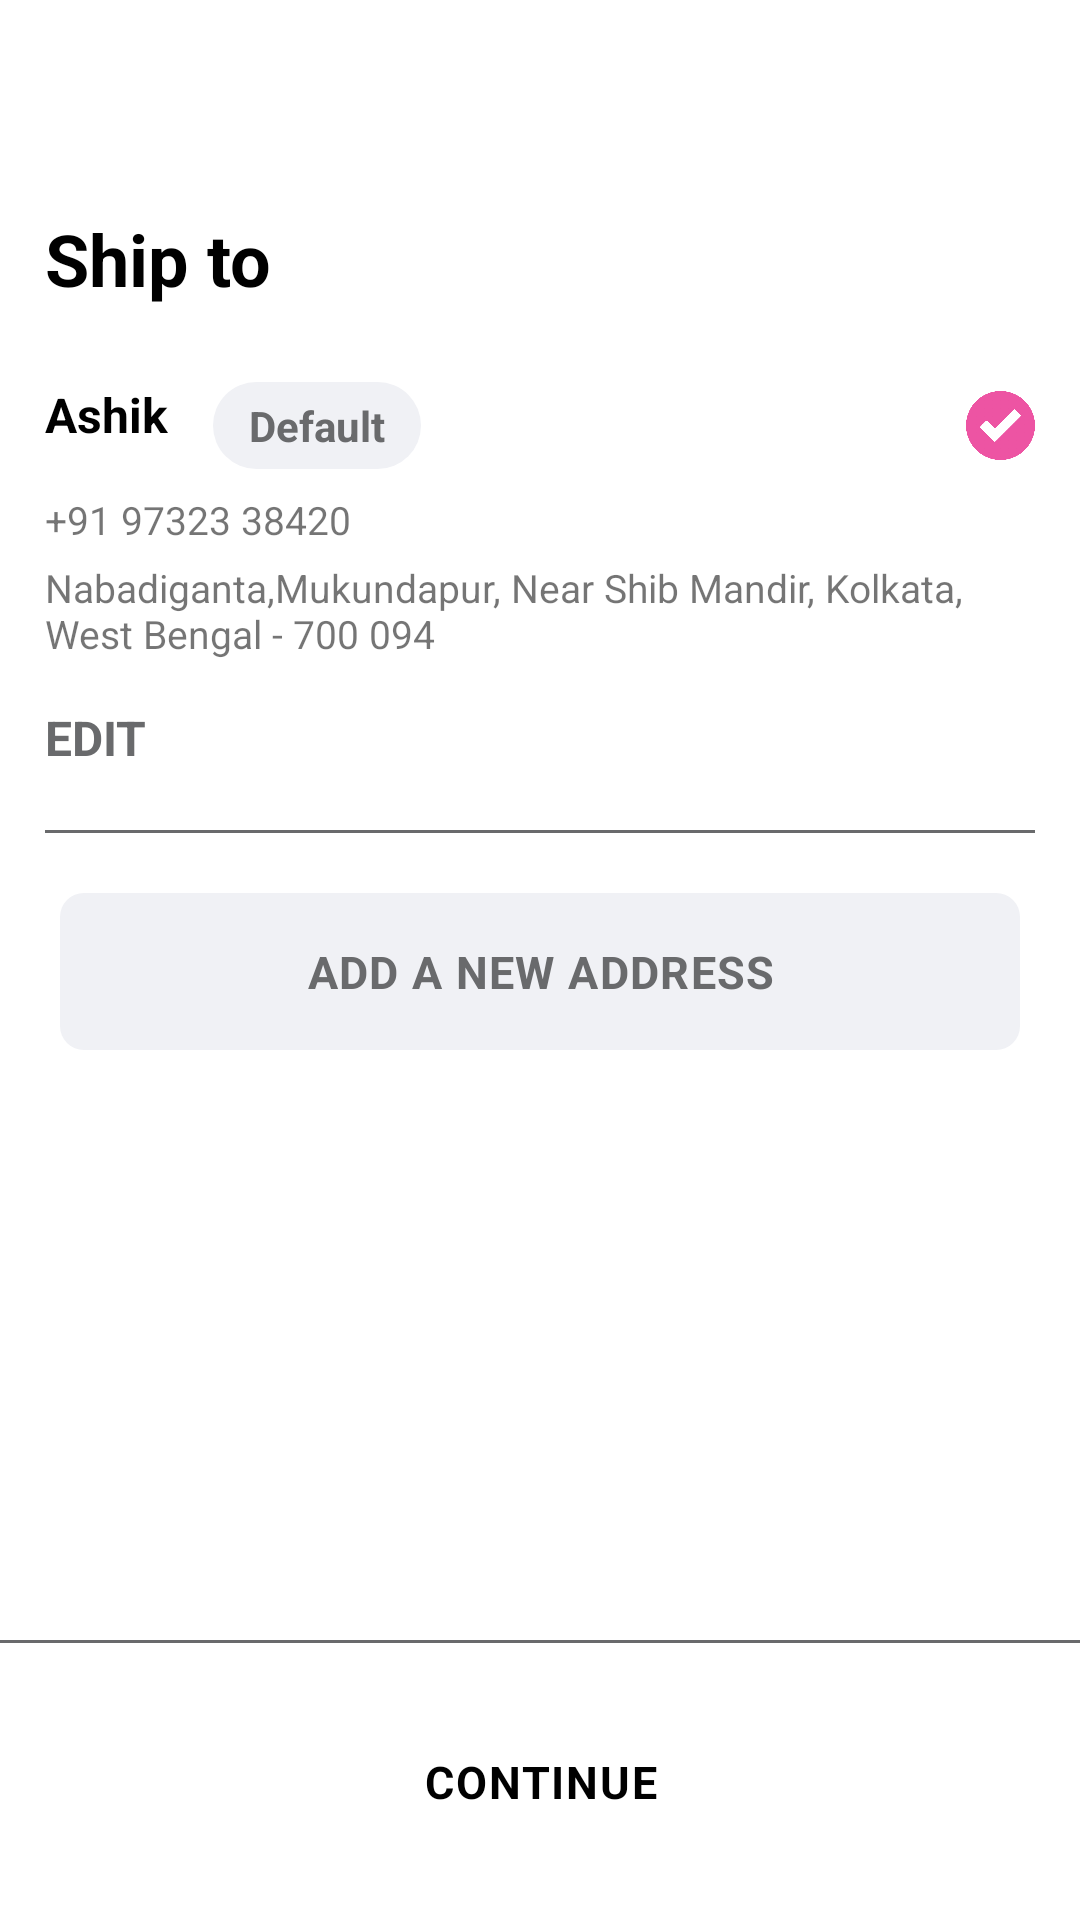

Screen size 1080 × 1920. Icon name, then its box in pixels as BBox(x1, y1, x2, y2):
accept: BBox(966, 391, 1035, 460)
